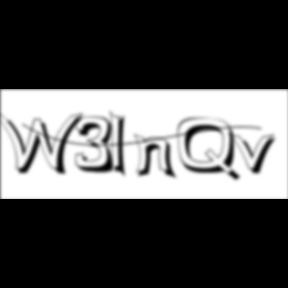3: (76, 116, 122, 176)
Q: (177, 117, 243, 184)
W: (0, 110, 90, 178)
l: (110, 108, 132, 182)
n: (134, 132, 180, 181)
v: (229, 131, 283, 177)
